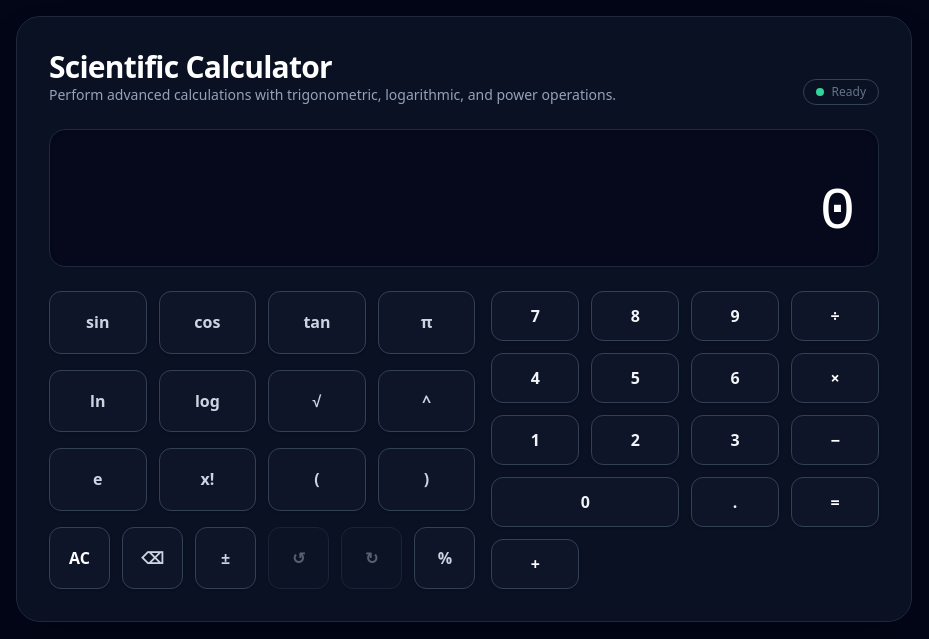
Test case: Calculator E2E › evaluates sin(30) in degree mode
Check: the heading "Scientific Calculator" is shown, box [49, 46, 332, 87]
Click the button "sin" at point(98, 323), box [49, 291, 147, 354]
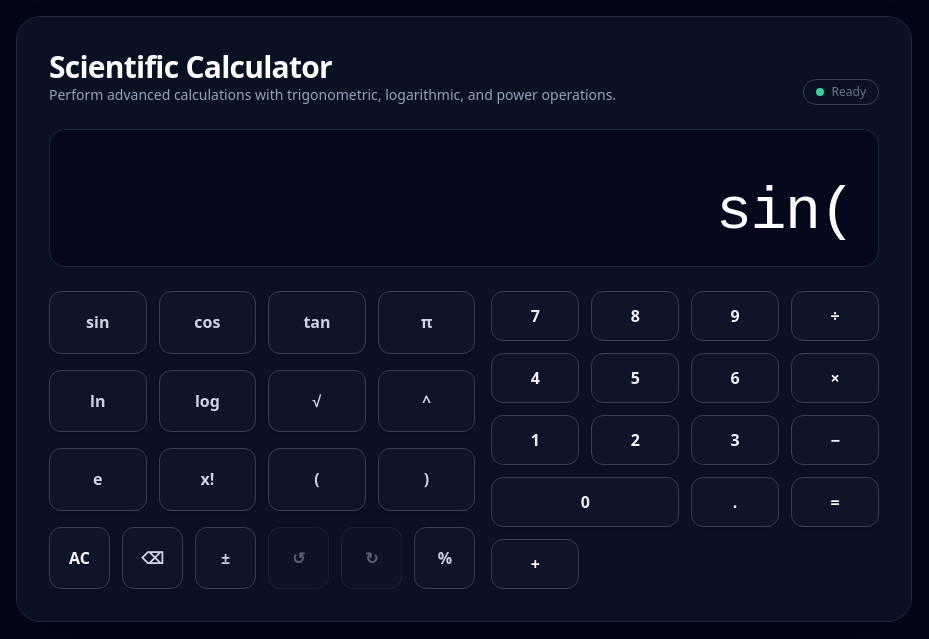
Click the button "3" at point(735, 440), box [691, 415, 779, 465]
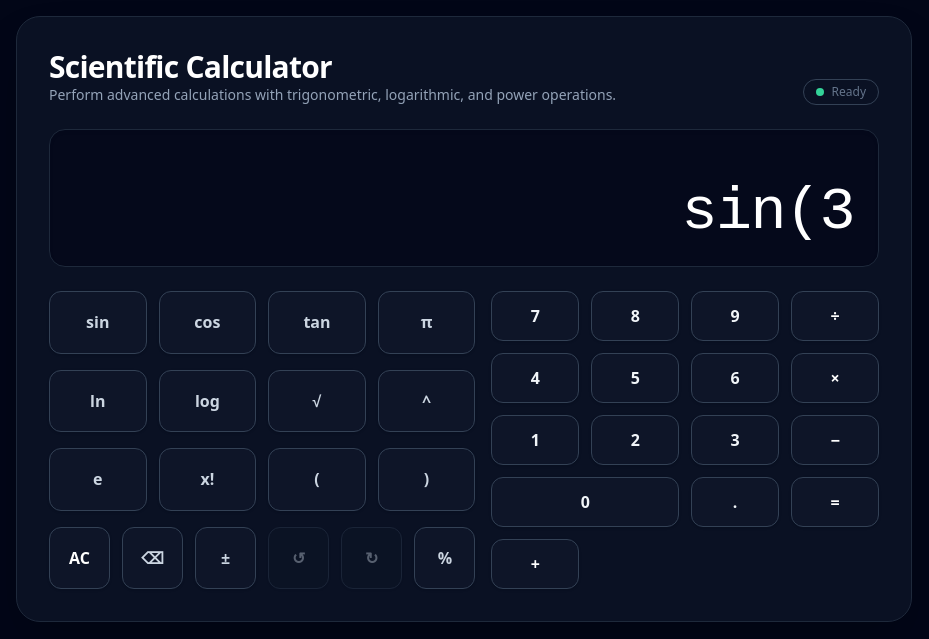
Click the button "0" at point(585, 502), box [491, 477, 679, 527]
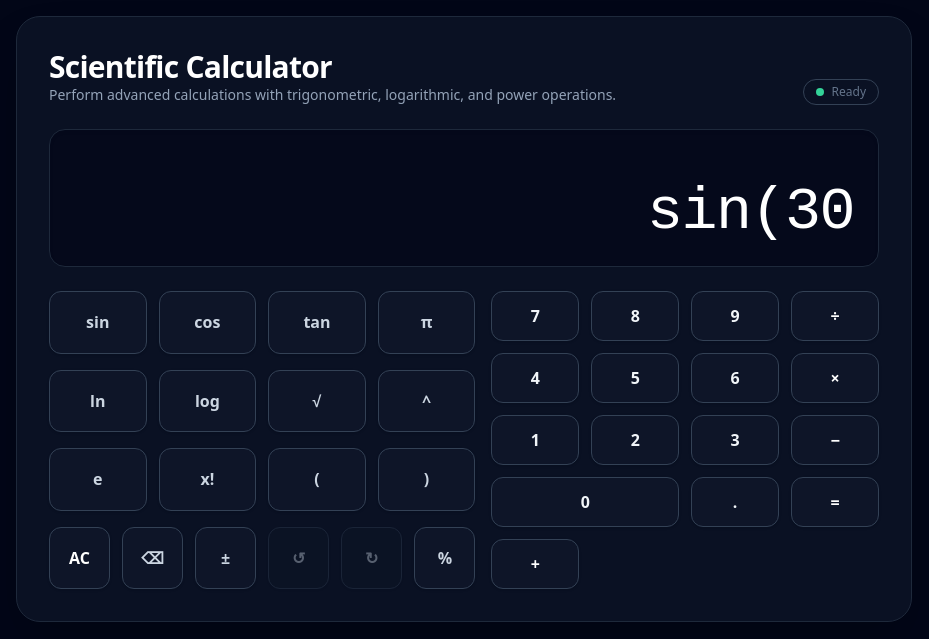
Click the button ")" at point(427, 480), box [378, 448, 476, 511]
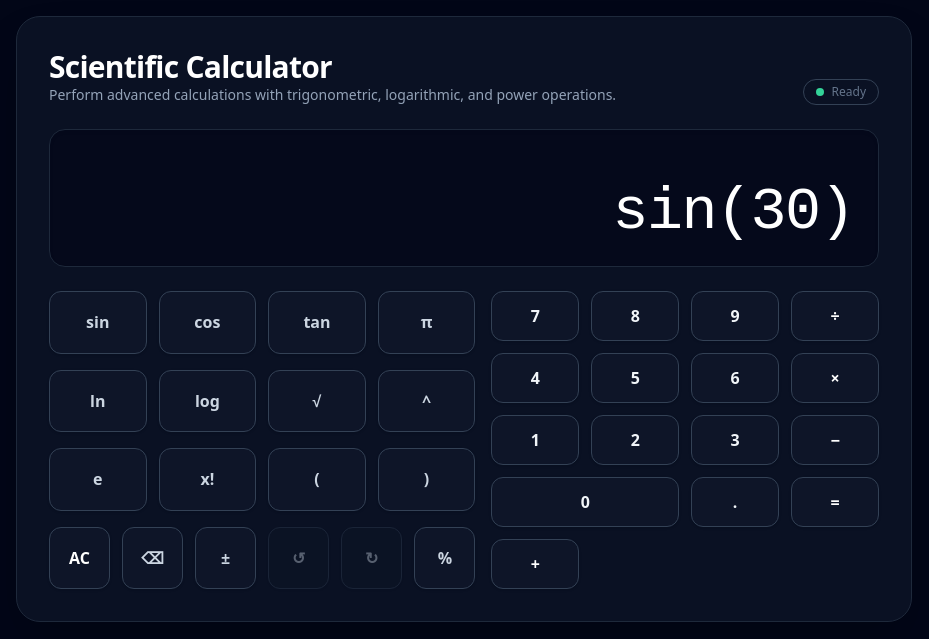
Click the button "=" at point(835, 502), box [791, 477, 879, 527]
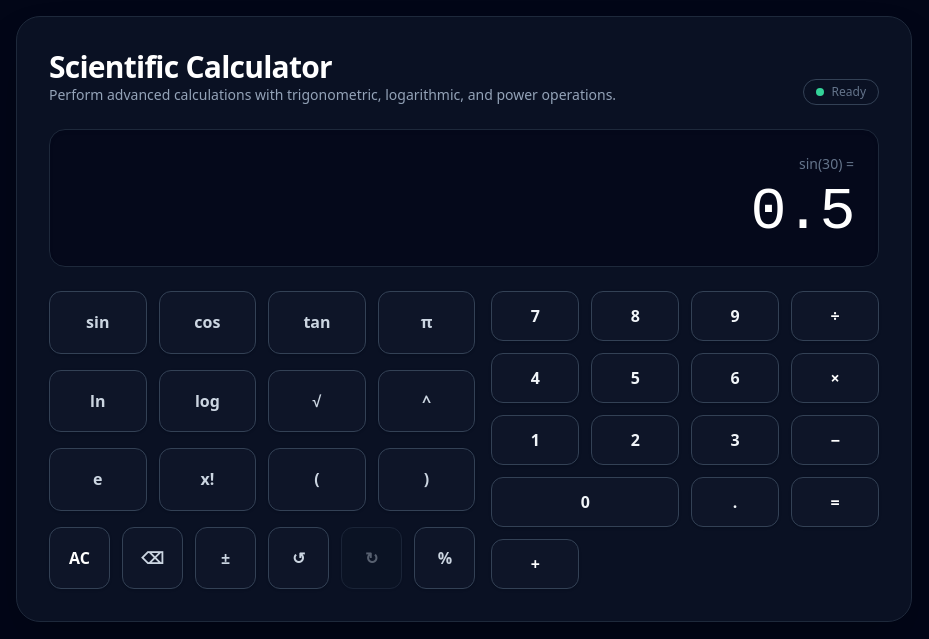
Check: the text "0.5" is shown, box [750, 178, 854, 246]
Check: the text "sin(30) =" is shown, box [799, 154, 854, 174]
